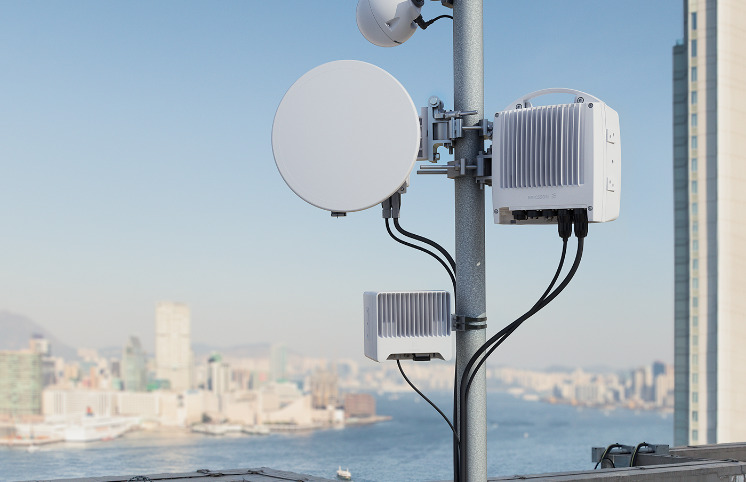ba: (270, 53, 426, 212)
